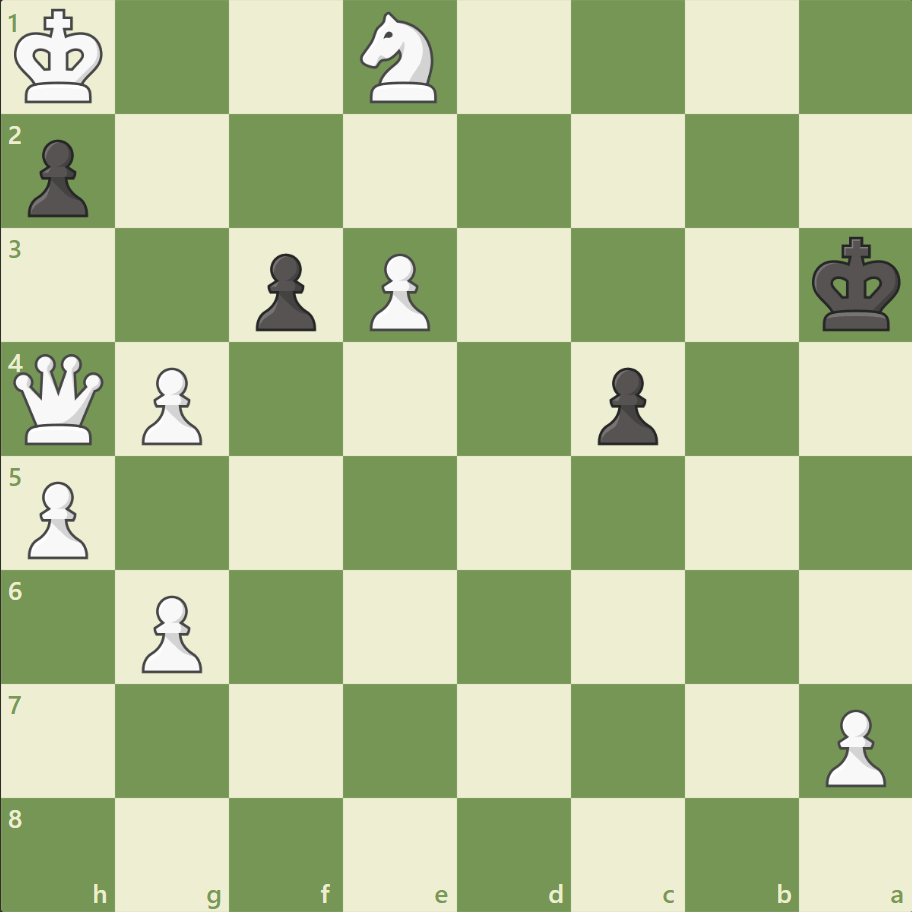K: (11, 4, 111, 112)
N: (351, 7, 449, 110)
P: (133, 586, 208, 677), (20, 473, 95, 564), (133, 359, 208, 450), (815, 700, 889, 791), (361, 246, 435, 337)
Q: (10, 349, 109, 449)
k: (806, 231, 906, 339)
p: (247, 246, 322, 337), (20, 132, 95, 223), (588, 359, 662, 450)
